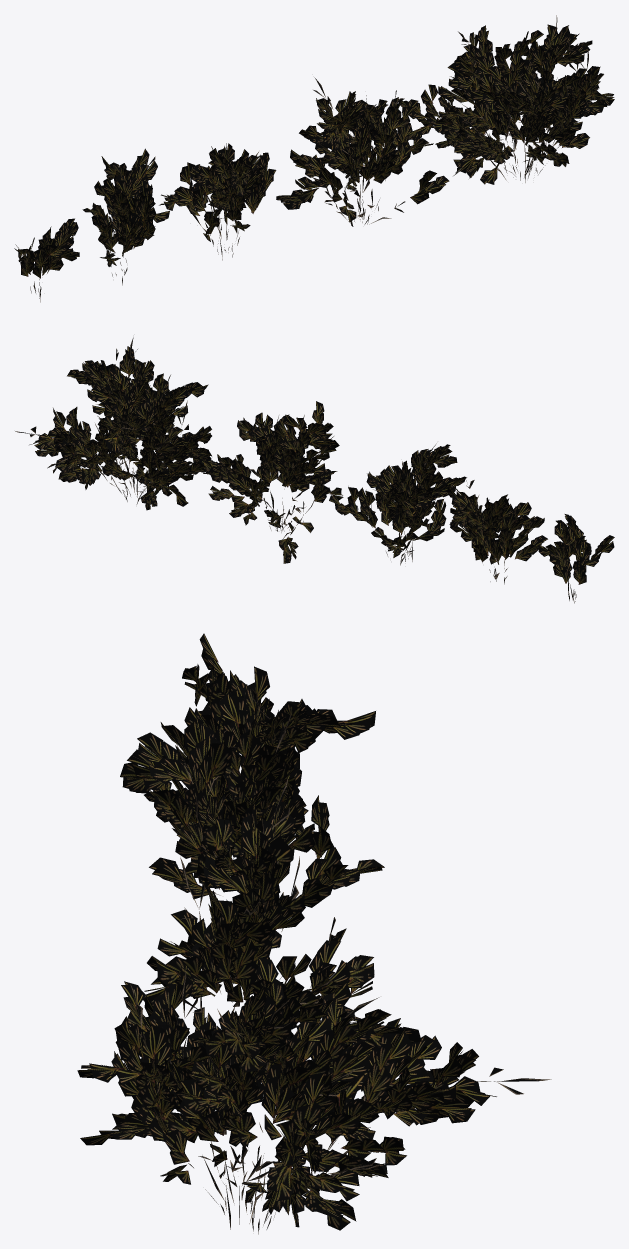
File: wild_rooibos_bush.glb
3 views of the same model, one above another, from view 1: azimuth 30°, elevation 25°; view 2: azimuth 150°, elevation 25°; view 3: azimuth 270°, elevation 25° (orthographic). The views are drawn at different scales.
Visible parts, largest first — view 1: wild_rooibos_bush_a; view 2: wild_rooibos_bush_a; view 3: wild_rooibos_bush_a.
Boxes of the visible parts, x1,y1,x2,y2 form: wild_rooibos_bush_a: (14,15,614,302); wild_rooibos_bush_a: (15,337,614,603); wild_rooibos_bush_a: (77,633,551,1234).
Size of the model in its own units: 2.27 by 0.5439 by 0.8433.
3 materials, 3 textured.
